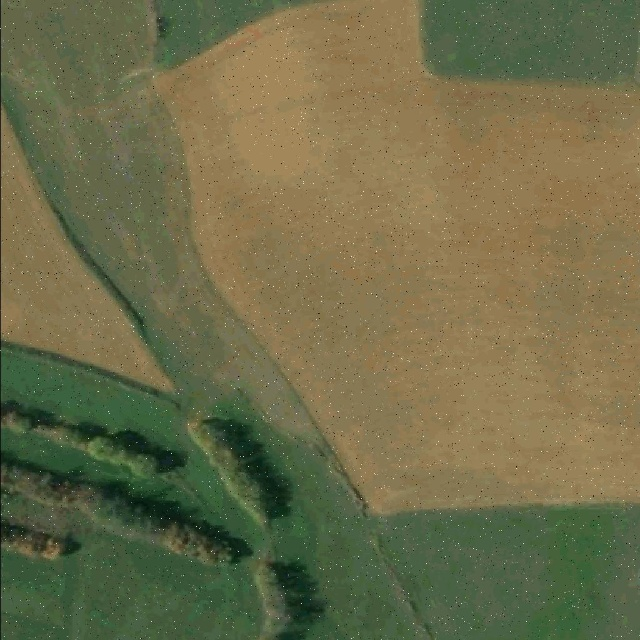vegetation: (0, 458, 238, 564), (0, 404, 163, 481), (188, 420, 273, 522), (253, 563, 292, 640), (0, 525, 74, 555)
